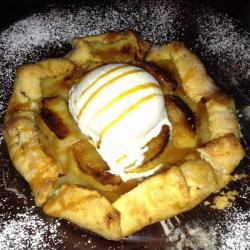apple_pie: (10, 31, 246, 239)
icecream: (68, 59, 176, 174)
